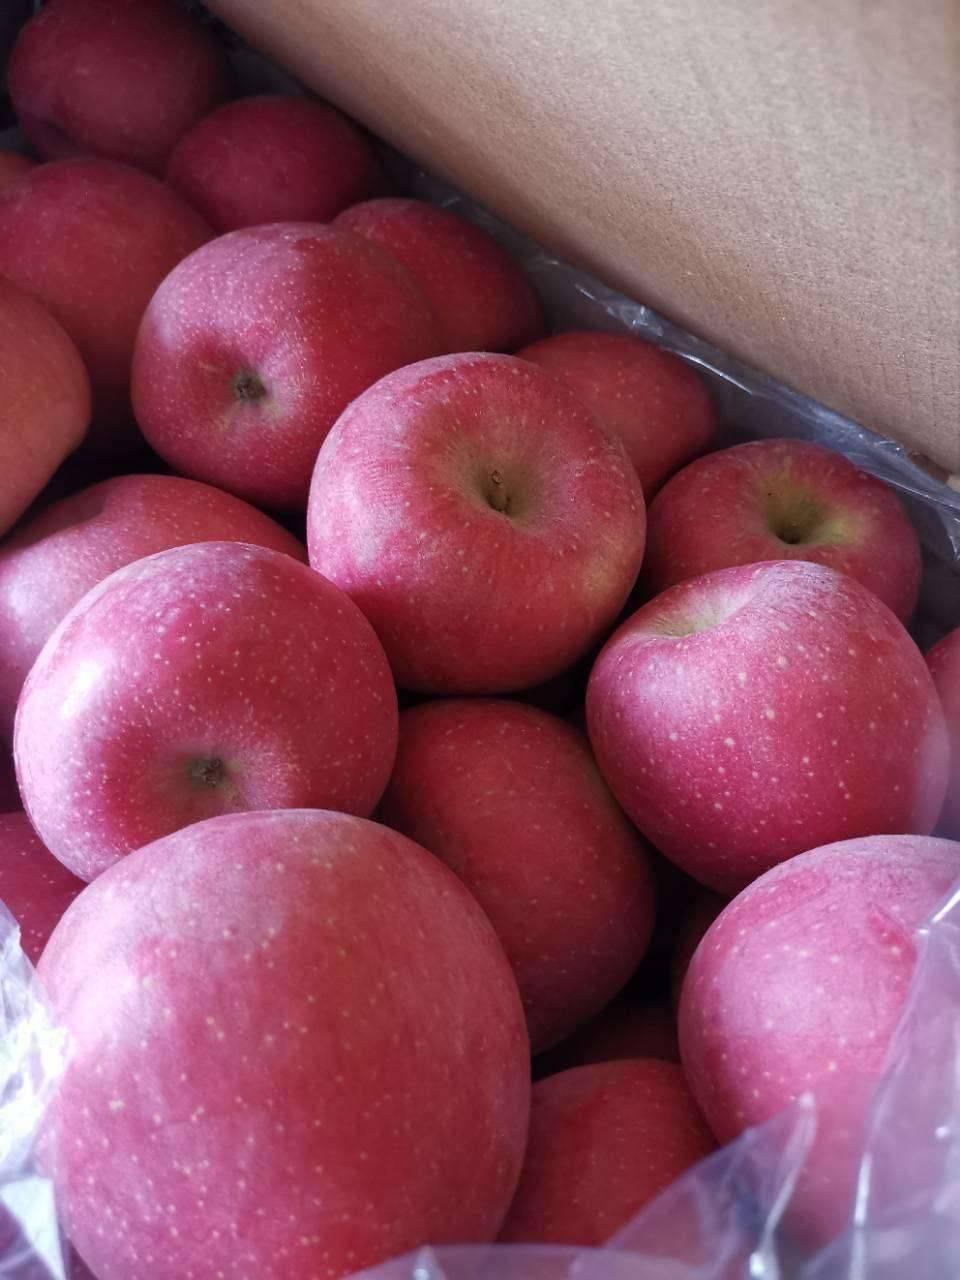apple: (14, 801, 529, 1261), (302, 347, 649, 701), (15, 556, 397, 876), (588, 556, 950, 880), (678, 833, 955, 1227), (376, 691, 657, 1052), (127, 222, 443, 501), (640, 436, 923, 623), (5, 150, 204, 405)
